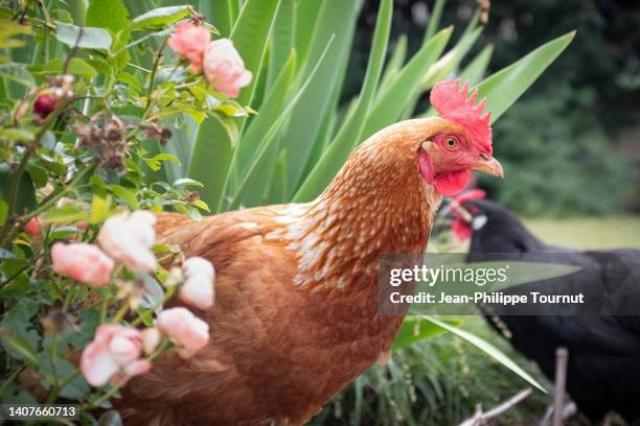Chicken: (107, 77, 504, 426), (441, 189, 640, 426)
